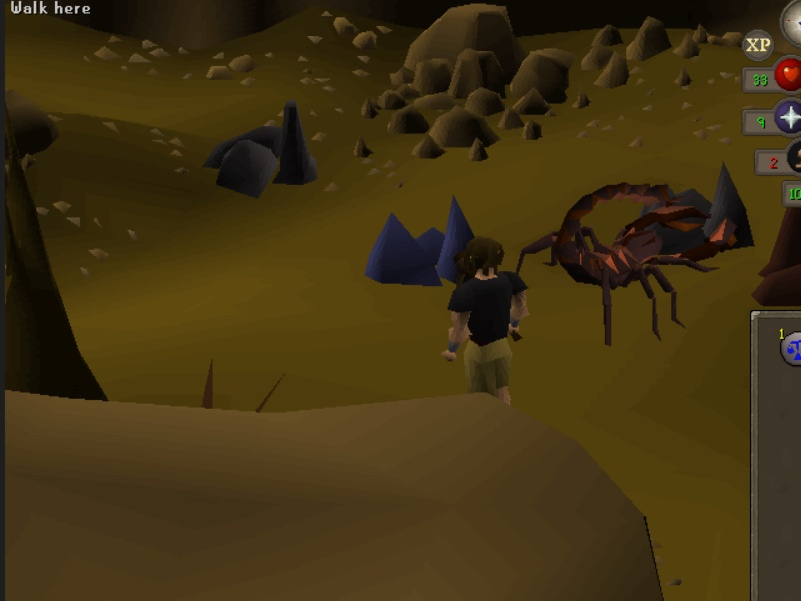mithril: (360, 188, 486, 294)
